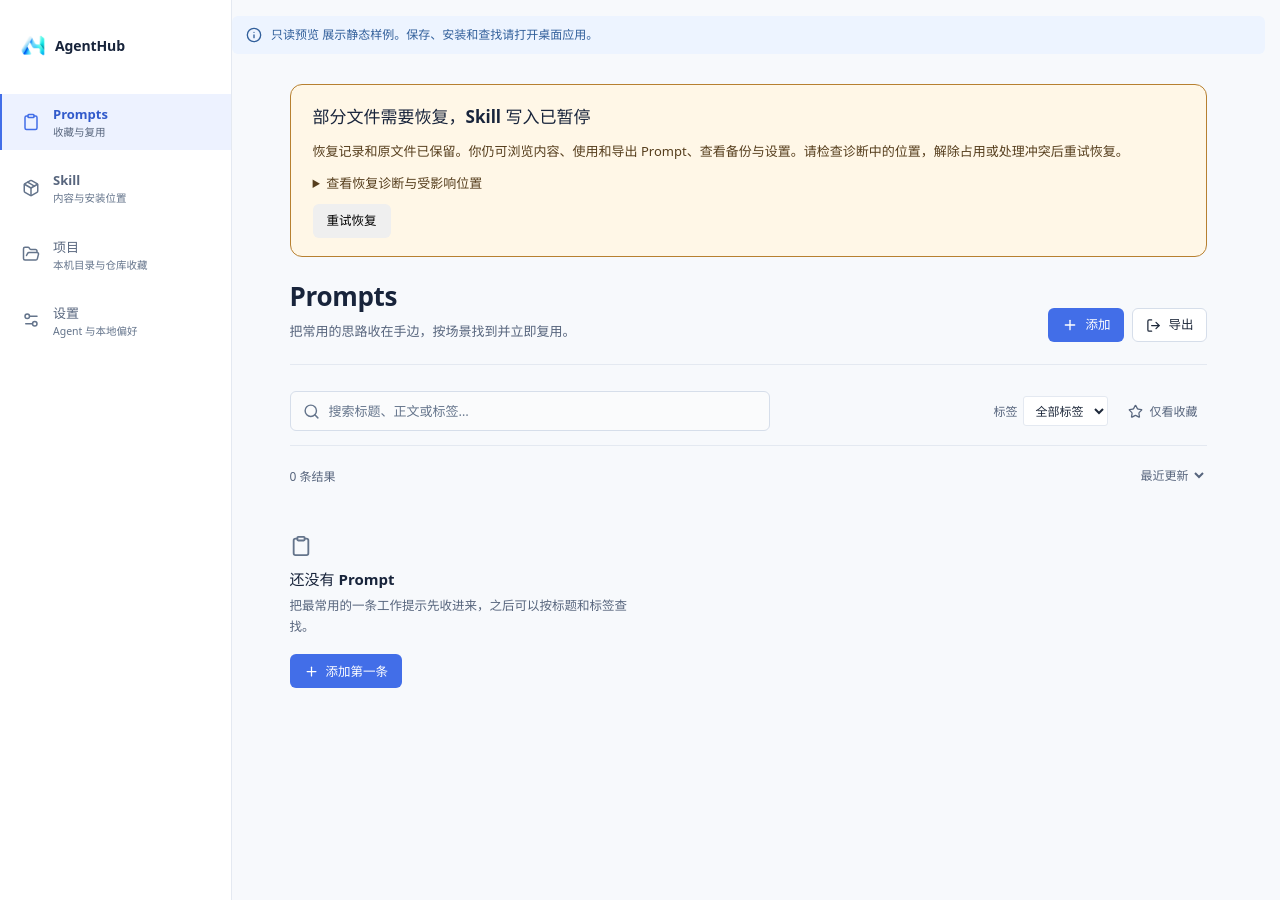
Scenario: keeps Prompt export and settings accessible during recovery and retries without dismissing diagnostics
The width and height of the screenshot is (1280, 900).
Check: the heading "部分文件需要恢复，Skill 写入已暂停" is shown, box [313,105,590,128]
Click the button "导出".
click(1170, 325)  # box [1132,308,1207,342]
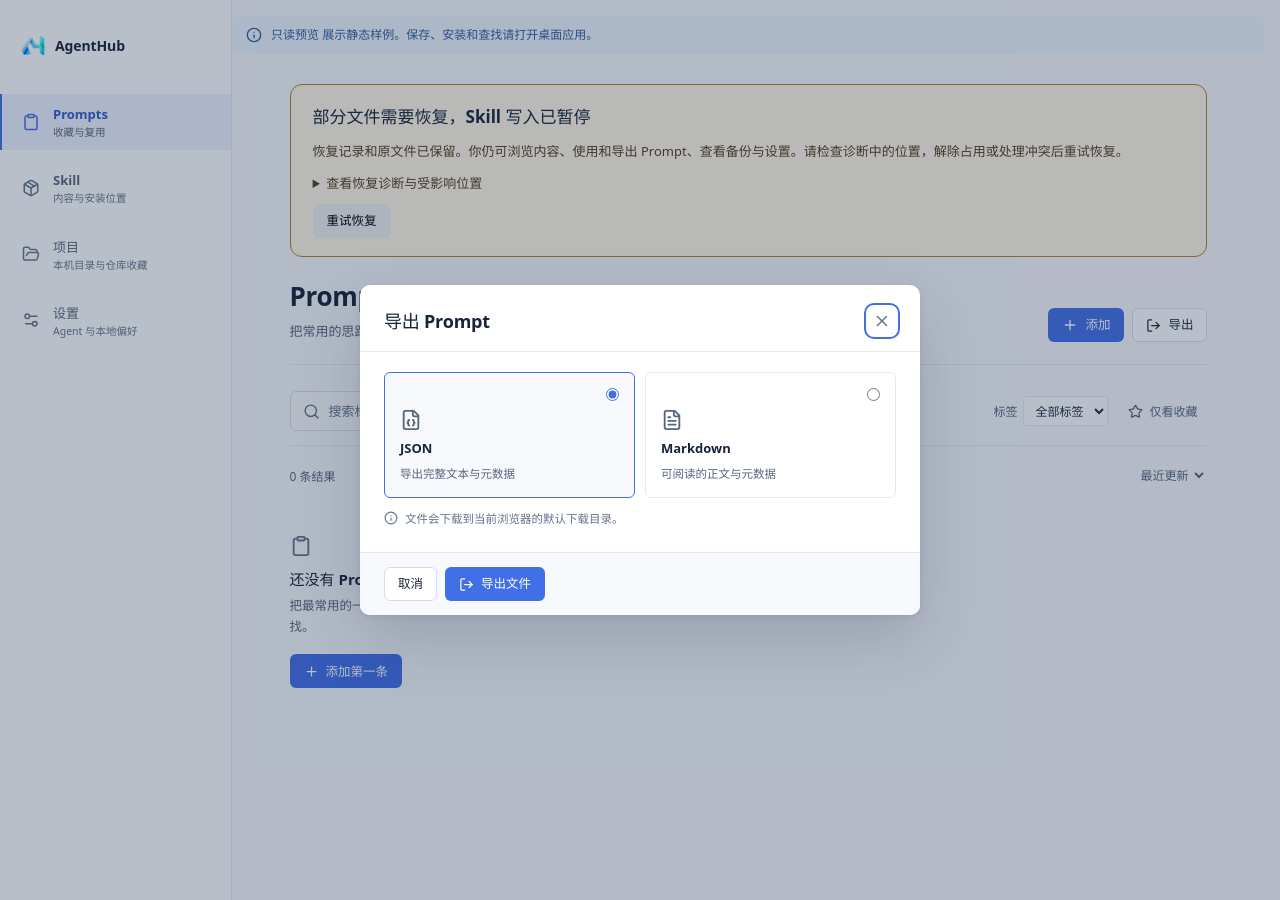
Click the button "导出文件".
click(495, 584)  # box [445,567,545,601]
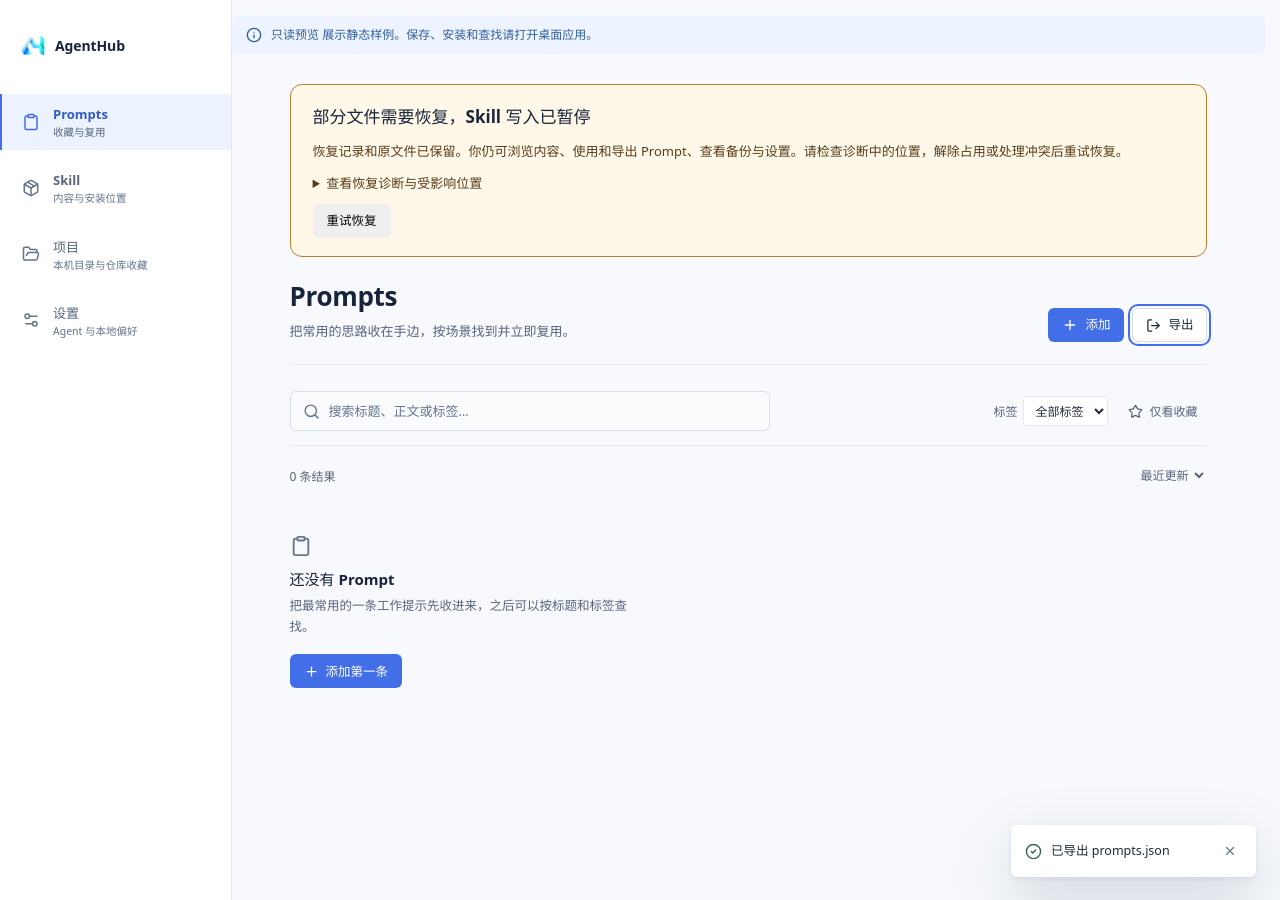
Click the button "设置 Agent 与本地偏好".
click(116, 320)  # box [0,292,231,348]
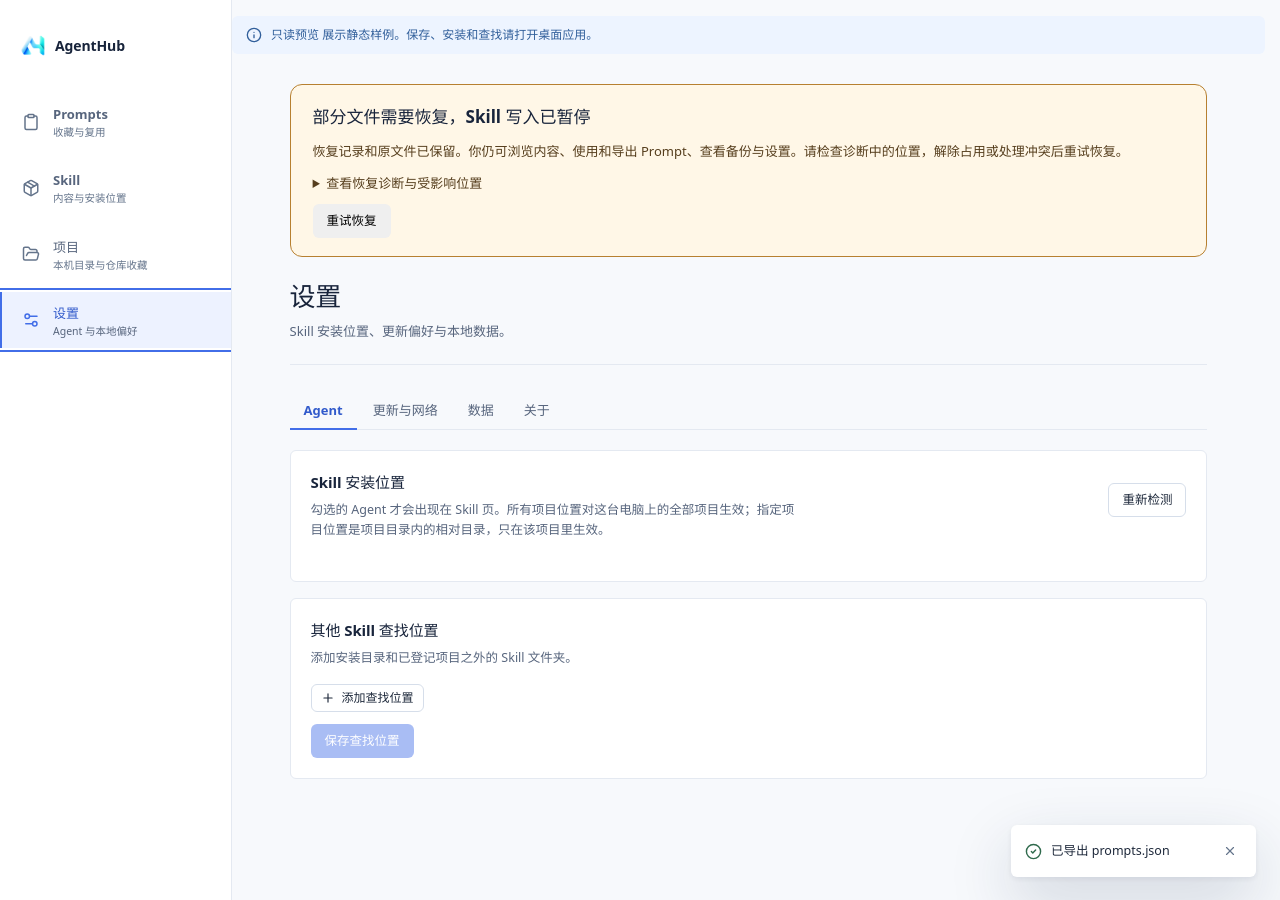
Check: the heading "设置" is shown, box [290,278,341,314]
Click the button "重试恢复".
click(352, 221)  # box [313,204,391,238]
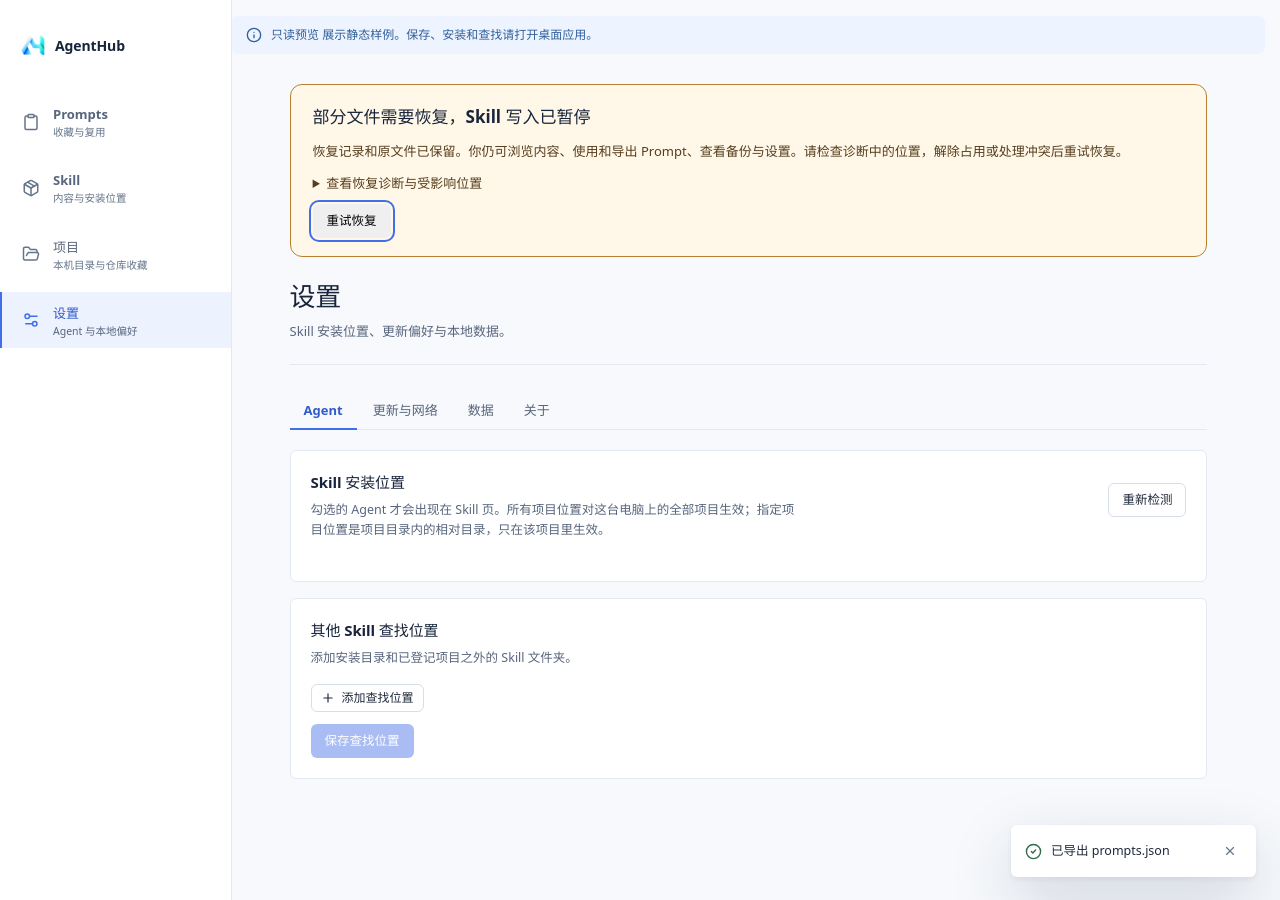
Check: the message that starts with "部分文件需要恢复，Skill 写入已暂停" is shown, box [313,105,590,128]
Click the button "重试恢复".
click(352, 221)  # box [313,204,391,238]
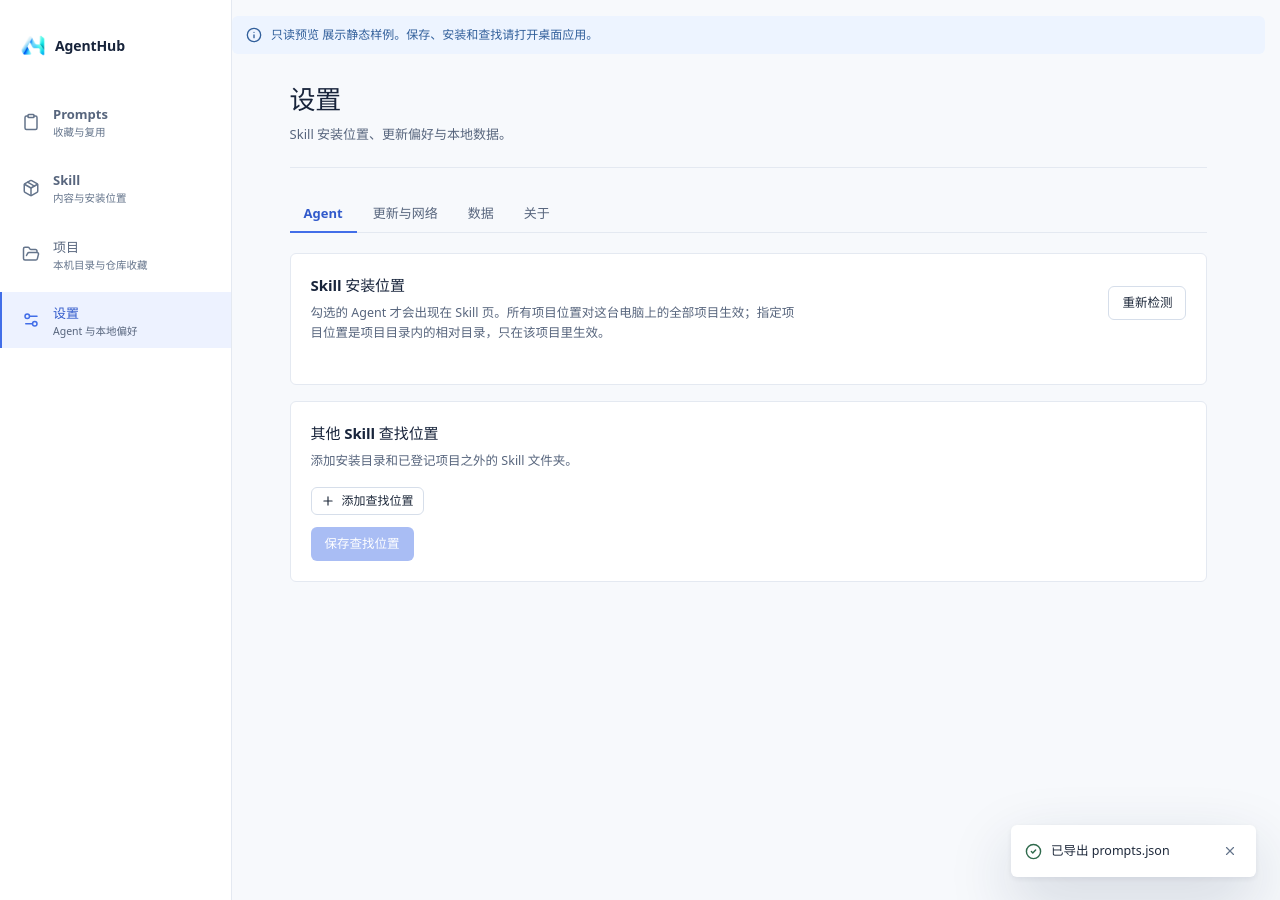
Check: the heading "部分文件需要恢复，Skill 写入已暂停" is gone
